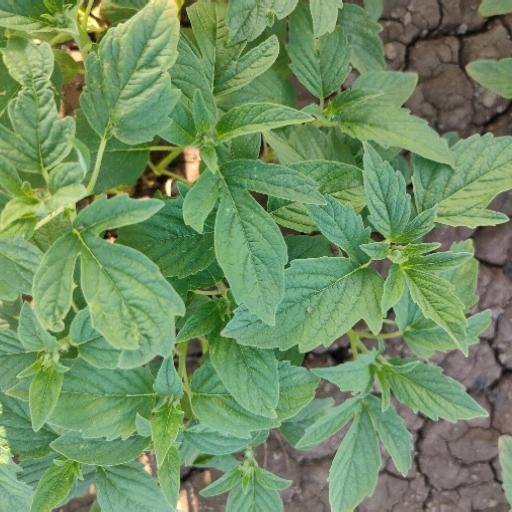crop: (13, 15, 491, 498)
